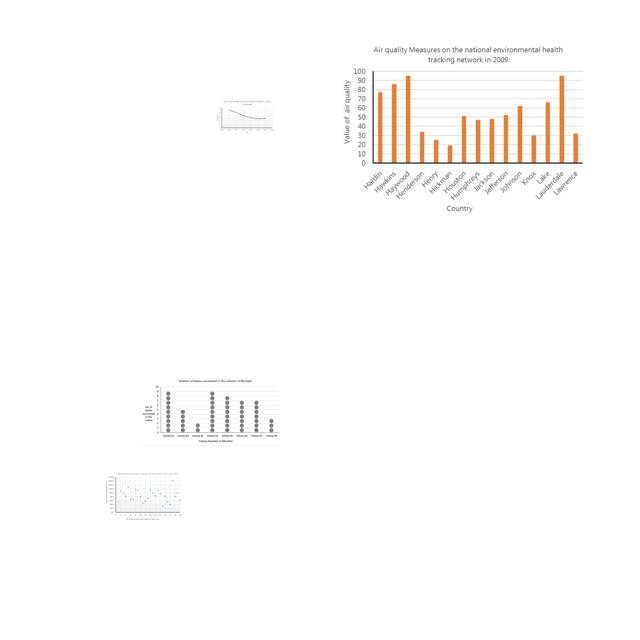Graph: (337, 39, 587, 216), (139, 378, 280, 446), (104, 471, 183, 522), (215, 99, 275, 134)
